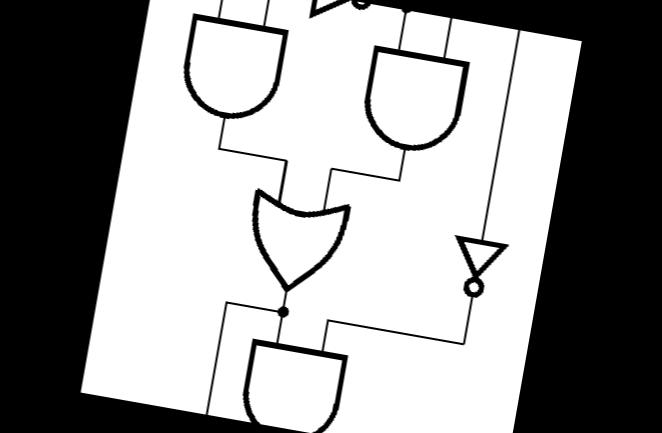and: (349, 33, 478, 167), (168, 3, 296, 133), (230, 327, 357, 433)
not: (436, 224, 517, 307), (298, 0, 374, 35)
or: (231, 182, 360, 308)
